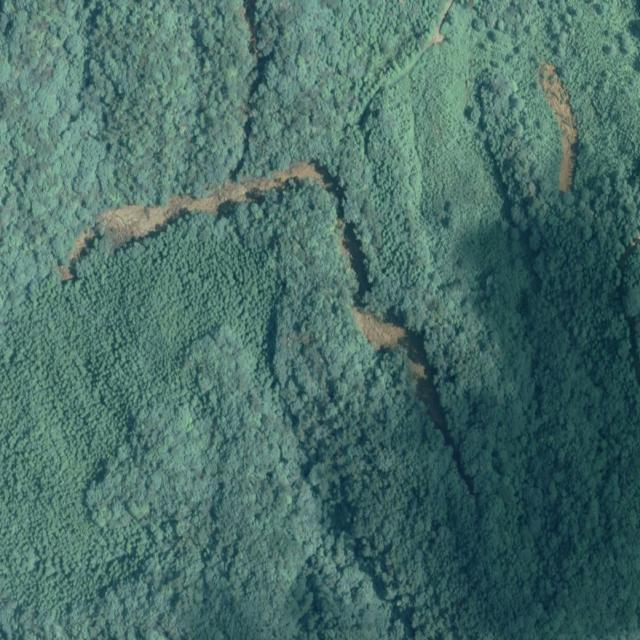landslide: (58, 160, 340, 281), (352, 304, 472, 491), (540, 60, 580, 193), (339, 220, 362, 283)
